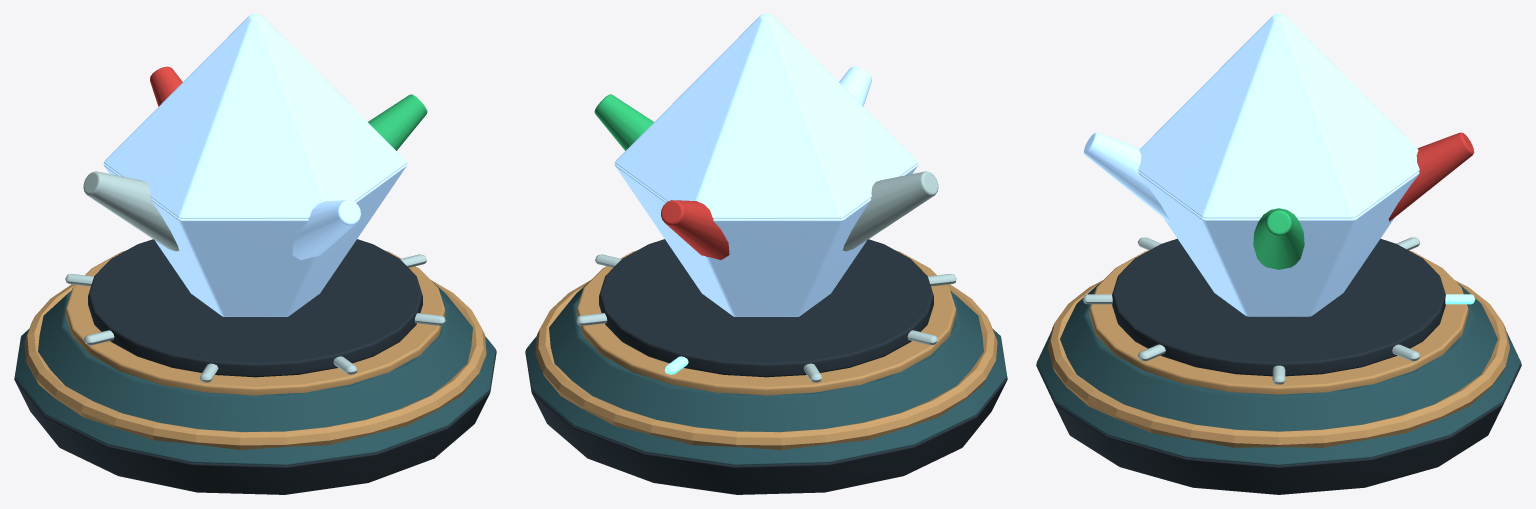
Rendered from multiFilter.glb.
The picture shows the model from 3 angles, left to right: view 1: azimuth 30°, elevation 25°; view 2: azimuth 150°, elevation 25°; view 3: azimuth 270°, elevation 25°; orthographic projection.
Visible parts, largest first — view 1: multiFilter; view 2: multiFilter; view 3: multiFilter.
Part boxes in pixels (<box>): multiFilter: <box>14,14,496,494</box>; multiFilter: <box>525,14,1007,494</box>; multiFilter: <box>1036,14,1521,494</box>.
Size of the model in its own units: 1.08 by 0.94 by 1.08.
